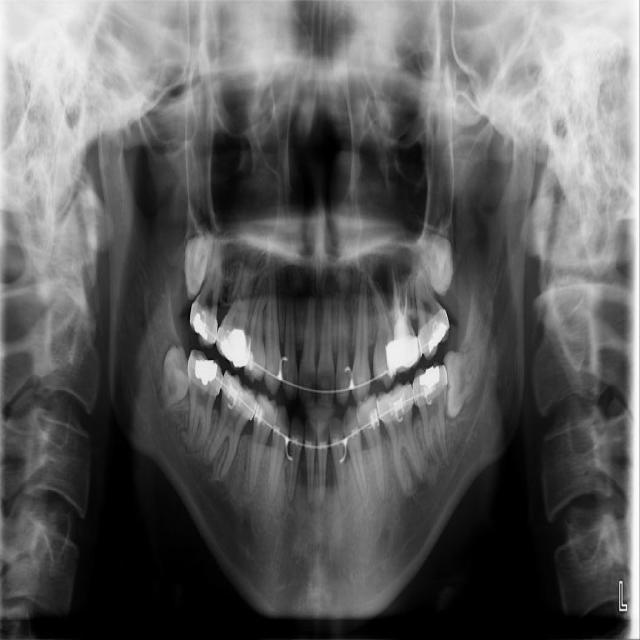Filling: (376, 382, 414, 430), (187, 349, 223, 396), (412, 362, 448, 407), (417, 310, 450, 359), (215, 325, 251, 369), (190, 299, 217, 350), (386, 339, 420, 374)
Periapical lesion: (179, 422, 195, 450), (286, 486, 297, 508), (416, 481, 429, 493), (441, 457, 452, 471), (305, 488, 312, 507)
Root Canal Treatment: (392, 265, 400, 324), (397, 280, 403, 318), (403, 288, 408, 321), (614, 589, 620, 603)
impacted tooth: (402, 236, 453, 296), (446, 336, 484, 415), (185, 224, 214, 299), (159, 346, 190, 408)
